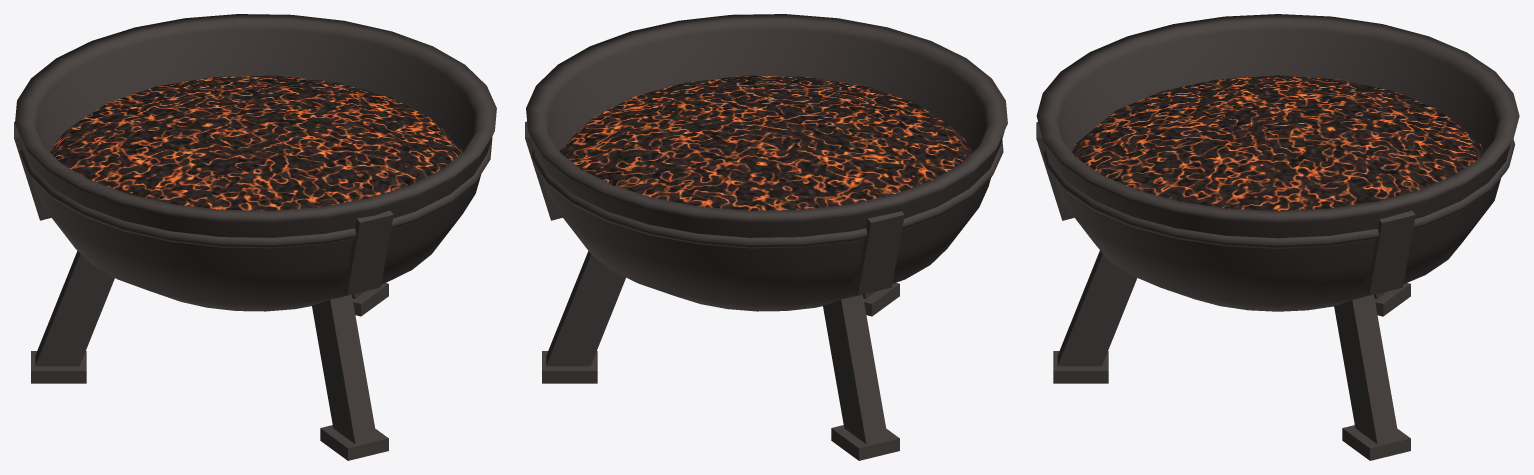
The model's file is brazier.glb.
3 renders of one model, left to right at view 1: azimuth 30°, elevation 25°; view 2: azimuth 150°, elevation 25°; view 3: azimuth 270°, elevation 25°, orthographic.
Parts seen in each view (by area): view 1: brazier; view 2: brazier; view 3: brazier.
Boxes of the visible parts, <box> form: brazier: <box>14,14,496,460</box>; brazier: <box>525,14,1007,460</box>; brazier: <box>1036,14,1519,460</box>.
Bounding box in the file's own units: 0.87 × 0.5155 × 0.8704.
2 materials, 1 textured.
